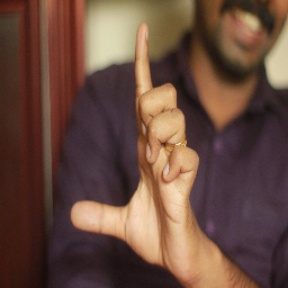L: (67, 23, 199, 261)
